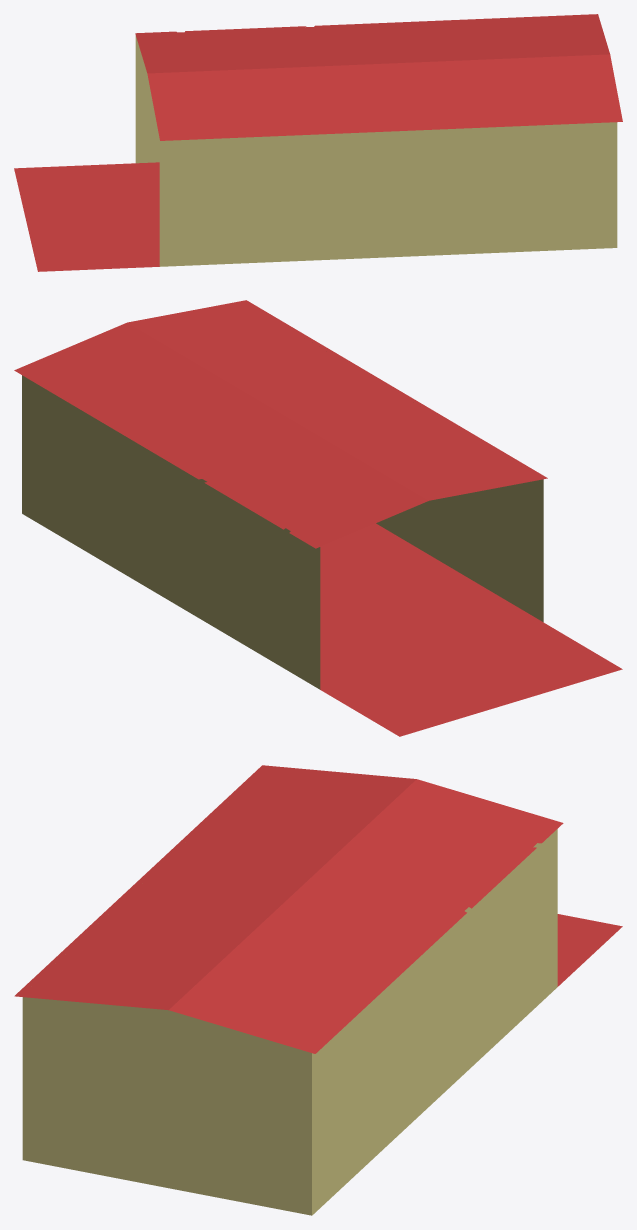
The picture shows the model from 3 angles, top to bottom: view 1: azimuth 30°, elevation 25°; view 2: azimuth 150°, elevation 25°; view 3: azimuth 270°, elevation 25°; orthographic projection. The views are drawn at different scales.
Size of the model in its own units: 31.38 by 23.17 by 7.6.
